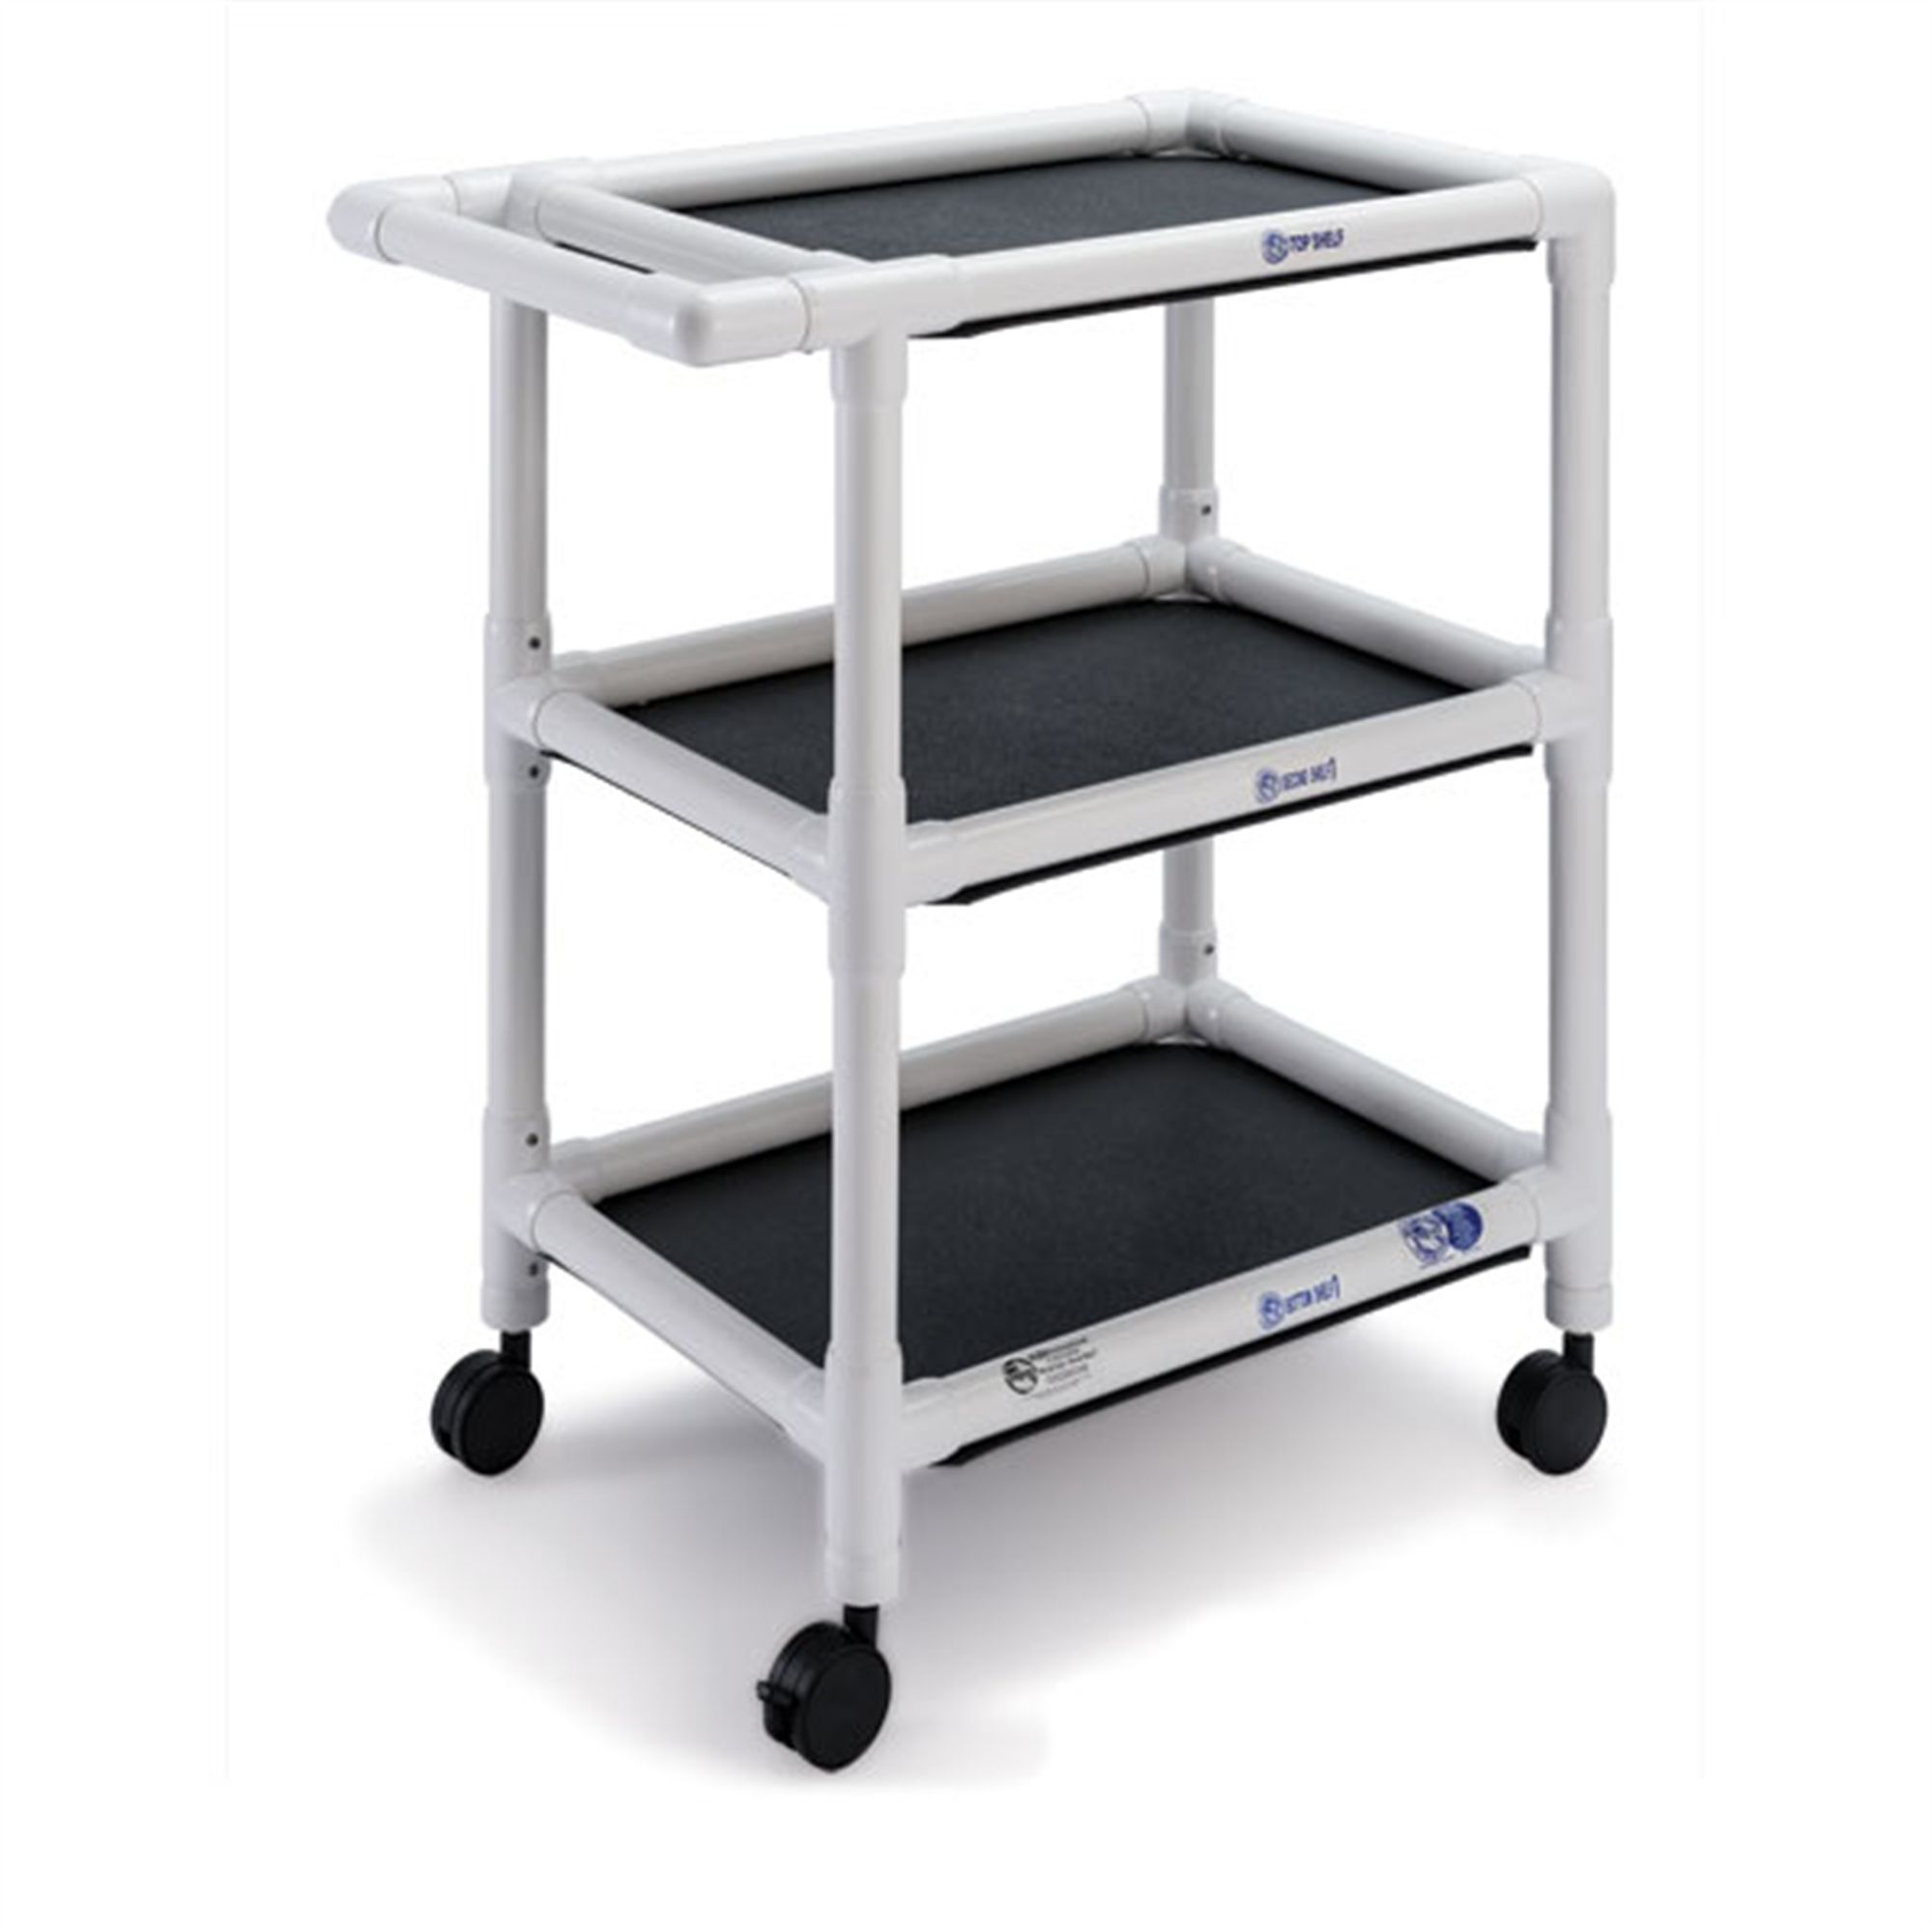Carts: (322, 83, 1614, 1773)
